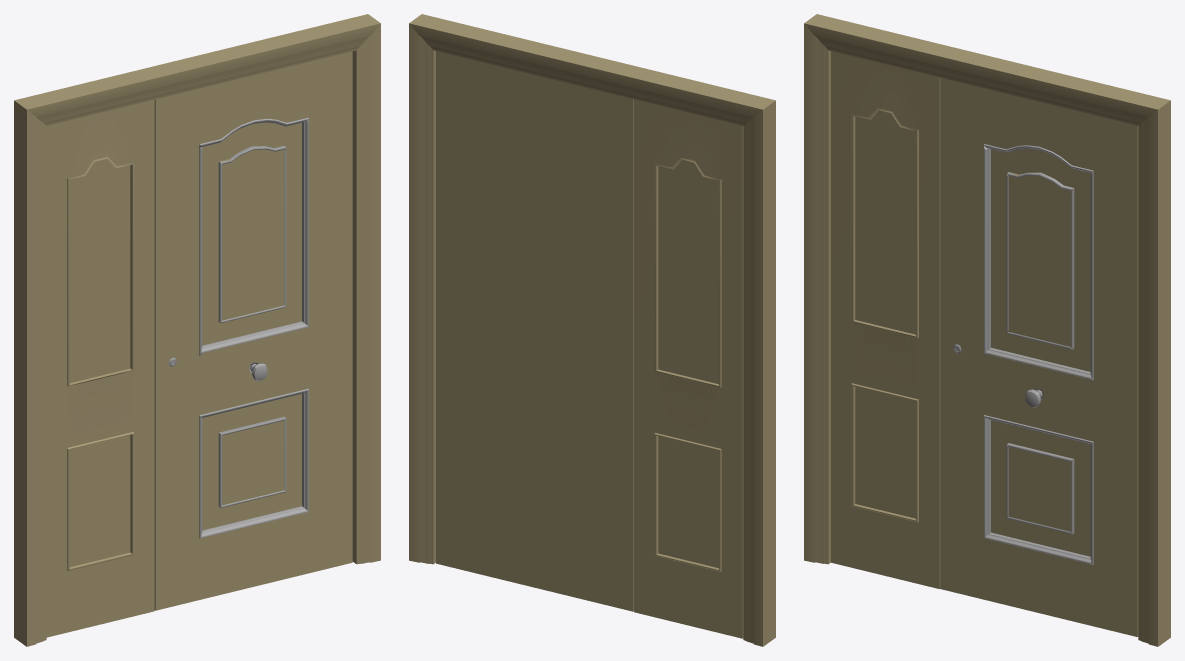
Rendered from PuertaEntrada160.fbx.
3 views of the same model, side by side, from view 1: azimuth 30°, elevation 25°; view 2: azimuth 150°, elevation 25°; view 3: azimuth 330°, elevation 25° (orthographic).
Parts seen in each view (by area): view 1: pCube1, Hoja2, pCube25, pCube29, pCube30, pCube12, pCube7, pCube15, pCube13, pCube3, pCube18; view 2: pCube1, Hoja2, pCube25, pCube29, pCube30; view 3: pCube1, Hoja2, pCube29, pCube25, pCube30, pCube13, pCube7, pCube15, pCube12, pCube5, pCube17.
Boxes of the visible parts, x1,y1,x2,y2 form: pCube1: (154,51,352,610); Hoja2: (46,99,154,637); pCube25: (14,101,46,646); pCube29: (352,23,380,564); pCube30: (14,14,380,130); pCube12: (302,119,308,326); pCube7: (201,506,308,537); pCube15: (201,321,308,353); pCube13: (199,147,202,355); pCube3: (302,390,308,511); pCube18: (218,162,222,322); pCube1: (436,51,633,611); Hoja2: (634,99,743,638); pCube25: (743,101,775,646); pCube29: (409,23,435,564); pCube30: (409,14,775,125); pCube1: (940,77,1138,636); Hoja2: (831,51,940,588); pCube29: (1138,100,1170,646); pCube25: (804,23,830,564); pCube30: (804,14,1170,130); pCube13: (984,146,990,355); pCube7: (984,532,1092,564); pCube15: (985,347,1092,379); pCube12: (1090,171,1093,379); pCube5: (984,416,990,537); pCube17: (1071,188,1074,348).
Bounding box in the file's own units: 16 × 23.2 × 1.32.
